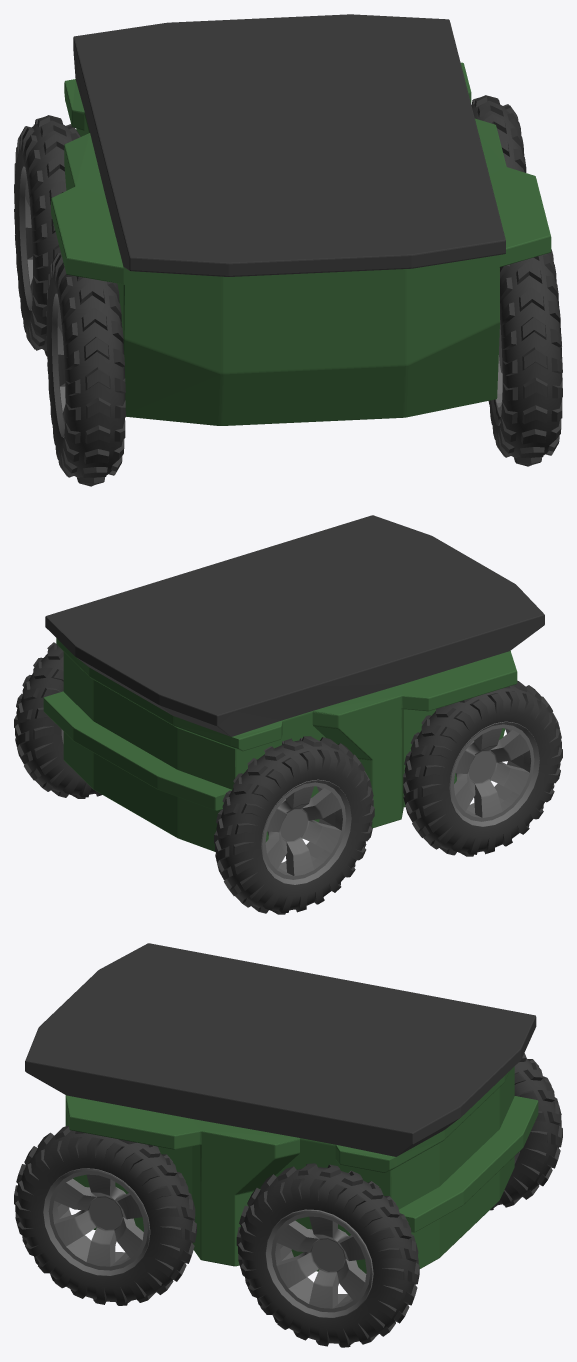
The model's file is robots_03.dae.
3 renders of one model, top to bottom at view 1: azimuth 30°, elevation 25°; view 2: azimuth 150°, elevation 25°; view 3: azimuth 270°, elevation 25°, orthographic. The views are drawn at different scales.
Parts seen in each view (by area): view 1: Object020; view 2: Object020; view 3: Object020.
Part boxes in pixels (x1,y1,x2,y2): Object020: (14,14,562,486); Object020: (14,515,562,914); Object020: (14,943,562,1347).
Bounding box in the file's own units: 56.93 × 58.71 × 25.49.
Materials: 1 (1 with a texture image).
